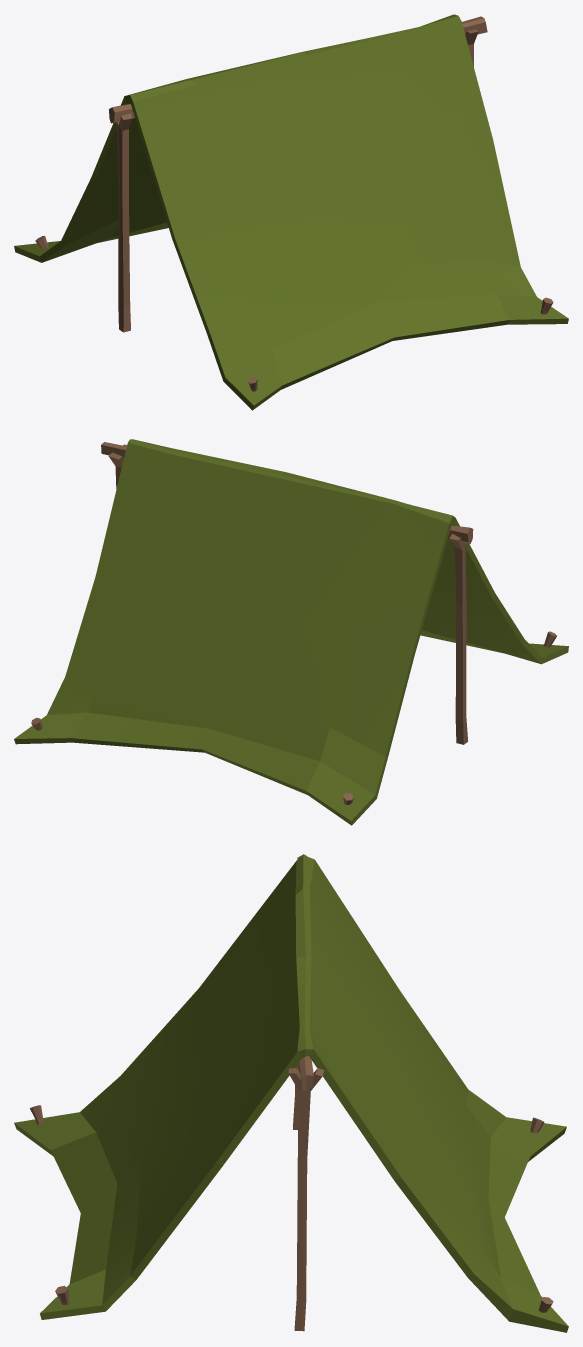
The model's file is tent.fbx.
3 views of the same model, one above another, from view 1: azimuth 30°, elevation 25°; view 2: azimuth 150°, elevation 25°; view 3: azimuth 270°, elevation 25° (orthographic). The views are drawn at different scales.
Visible parts, largest first — view 1: Tent; view 2: Tent; view 3: Tent.
Part boxes in pixels (box(x1,y1,x2,y2)): Tent: box(14, 14, 568, 410); Tent: box(14, 439, 568, 825); Tent: box(14, 854, 568, 1332).
Size of the model in its own units: 3.47 by 2.09 by 3.72.
